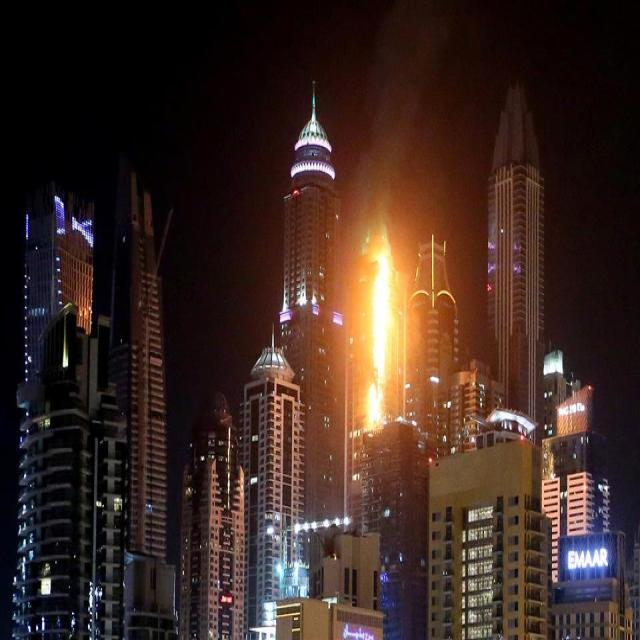Fire: (366, 210, 402, 442)
